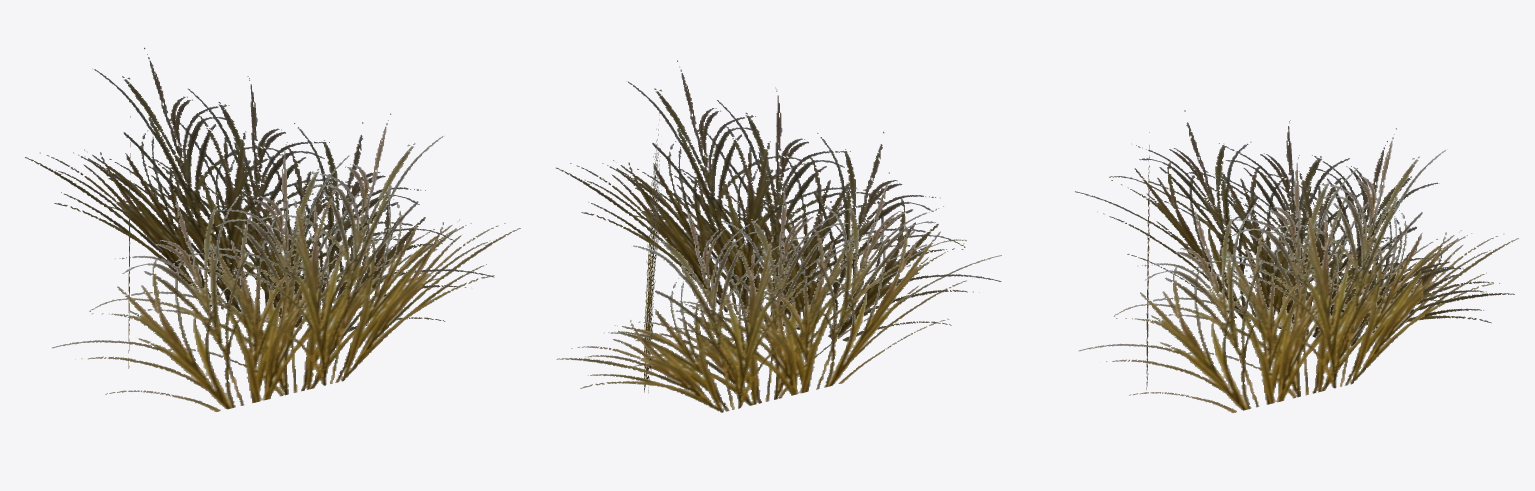
Rendered from dryGrass02.fbx.
The picture shows the model from 3 angles, left to right: view 1: azimuth 30°, elevation 25°; view 2: azimuth 150°, elevation 25°; view 3: azimuth 270°, elevation 25°; orthographic projection. The views are drawn at different scales.
Visible parts, largest first — view 1: Plane, Plane.002; view 2: Plane.001, Plane, Plane.002; view 3: Plane.002, Plane.001.
Part boxes in pixels (left/top/right/bottom): Plane: left=52, top=113, right=520, bottom=411; Plane.002: left=25, top=47, right=494, bottom=331; Plane.001: left=556, top=172, right=1001, bottom=412; Plane: left=556, top=60, right=1001, bottom=341; Plane.002: left=644, top=115, right=661, bottom=392; Plane.002: left=1078, top=128, right=1518, bottom=412; Plane.001: left=1075, top=110, right=1514, bottom=346.
Size of the model in its own units: 200 by 100 by 177.
